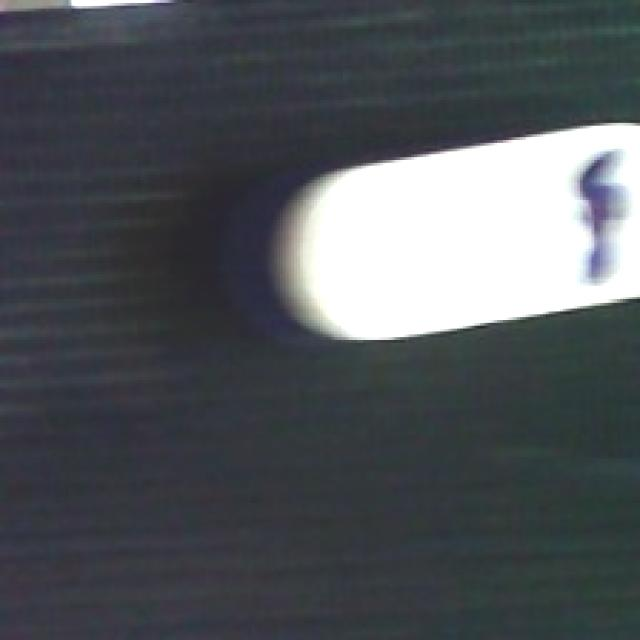defected: (263, 121, 640, 345)
